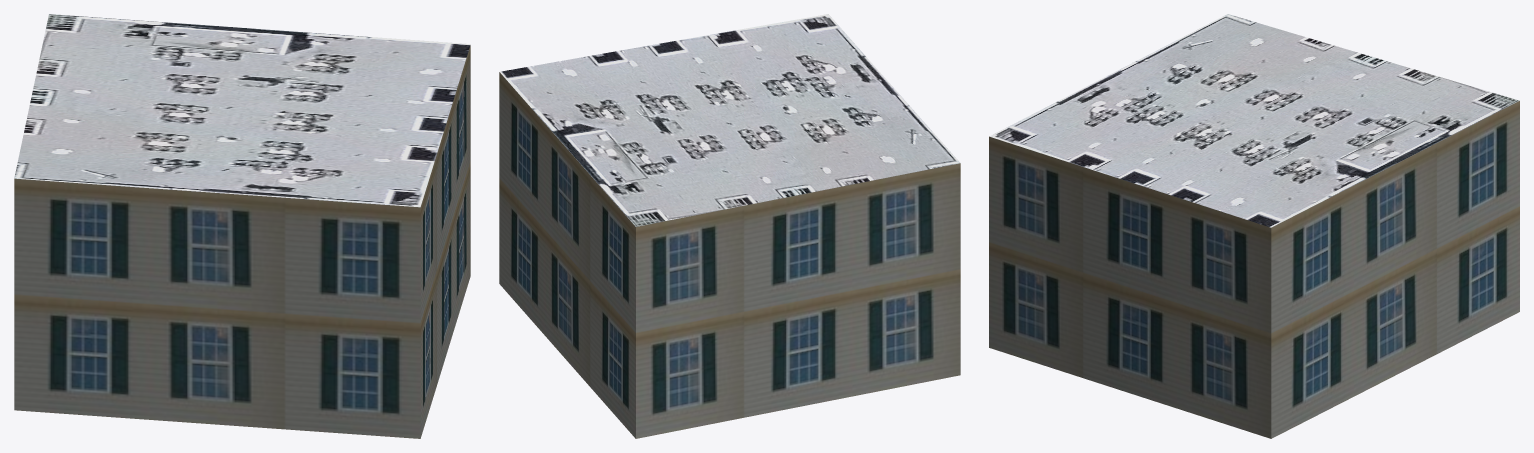
The model's file is ResTex__4014.fbx.
3 views of the same model, side by side, from view 1: azimuth 30°, elevation 25°; view 2: azimuth 150°, elevation 25°; view 3: azimuth 270°, elevation 25° (orthographic). The views are drawn at different scales.
Visible parts, largest first — view 1: CityEngineMaterial_7_m, CityEngineMaterial_4_m; view 2: CityEngineMaterial_7_m, CityEngineMaterial_4_m; view 3: CityEngineMaterial_7_m, CityEngineMaterial_4_m.
Part boxes in pixels (left/top/right/bottom): CityEngineMaterial_7_m: left=14, top=45, right=470, bottom=438; CityEngineMaterial_4_m: left=14, top=14, right=470, bottom=207; CityEngineMaterial_7_m: left=499, top=72, right=960, bottom=438; CityEngineMaterial_4_m: left=500, top=14, right=960, bottom=226; CityEngineMaterial_7_m: left=989, top=101, right=1519, bottom=438; CityEngineMaterial_4_m: left=989, top=14, right=1519, bottom=227.
Size of the model in its own units: 13.02 by 6 by 13.66.
Materials: 2 (2 with a texture image).
